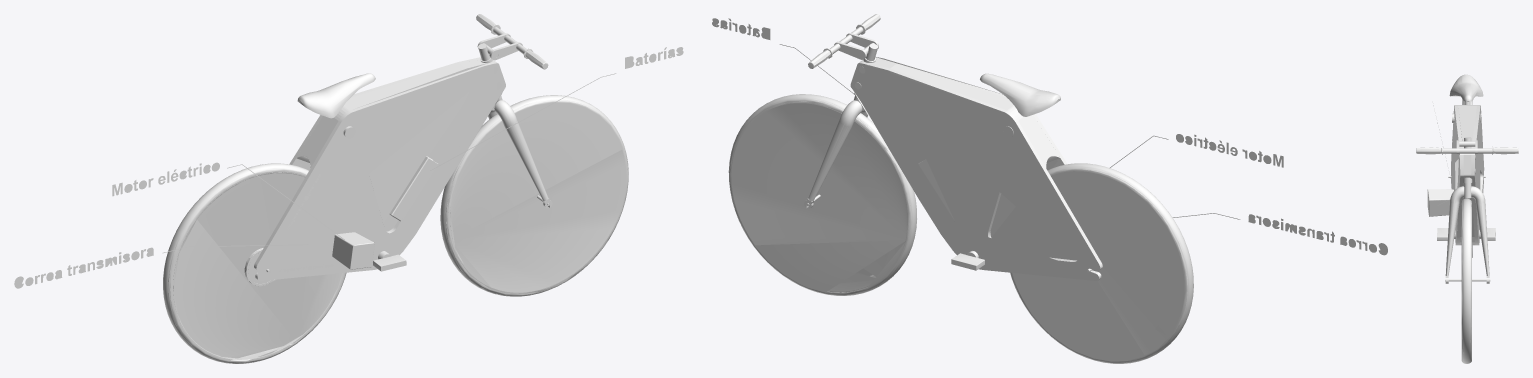
The model's file is PrototipoBicicleta.obj.
3 renders of one model, left to right at view 1: azimuth 30°, elevation 25°; view 2: azimuth 150°, elevation 25°; view 3: azimuth 270°, elevation 25°, orthographic. The views are drawn at different scales.
Parts seen in each view (by area): view 1: Bicicleta; view 2: Bicicleta; view 3: Bicicleta.
Part boxes in pixels (<box>): Bicicleta: <box>14,14,683,363</box>; Bicicleta: <box>712,14,1387,363</box>; Bicicleta: <box>1416,74,1518,363</box>.
Size of the model in its own units: 2.46 by 0.9158 by 0.4222.
